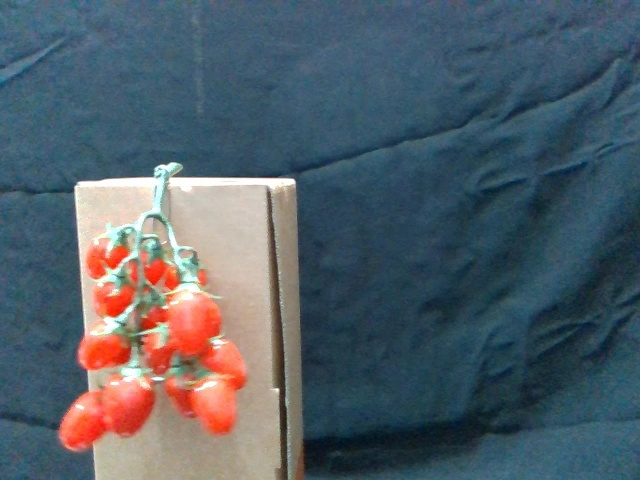tomato: (56, 385, 111, 452), (107, 369, 156, 438), (171, 283, 216, 354), (195, 373, 239, 432), (207, 335, 253, 387), (87, 227, 132, 279), (81, 317, 124, 368), (94, 269, 135, 317)
